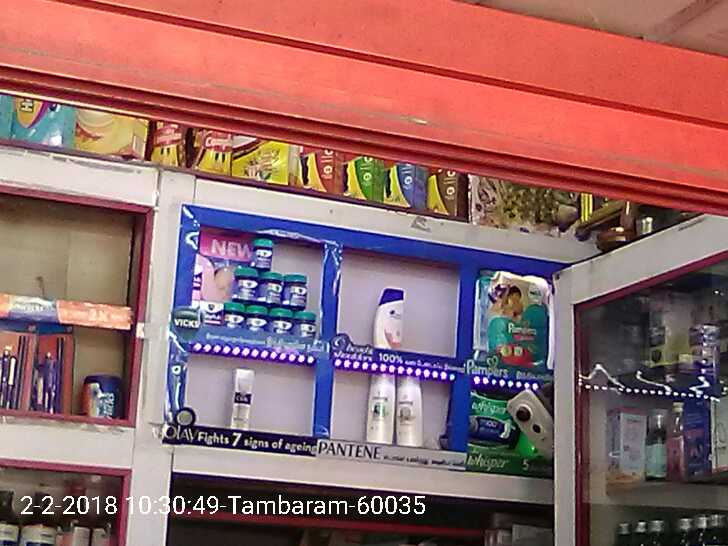vicks: (201, 222, 318, 339)
